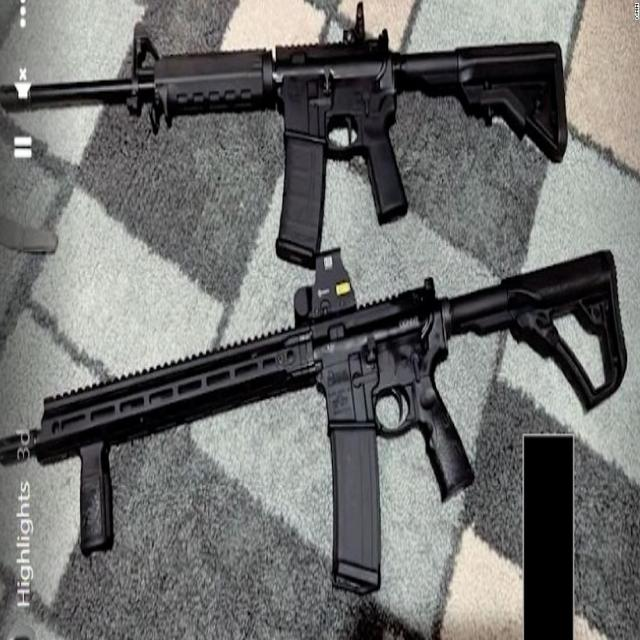Rifle: (0, 249, 628, 599), (22, 33, 568, 273)
